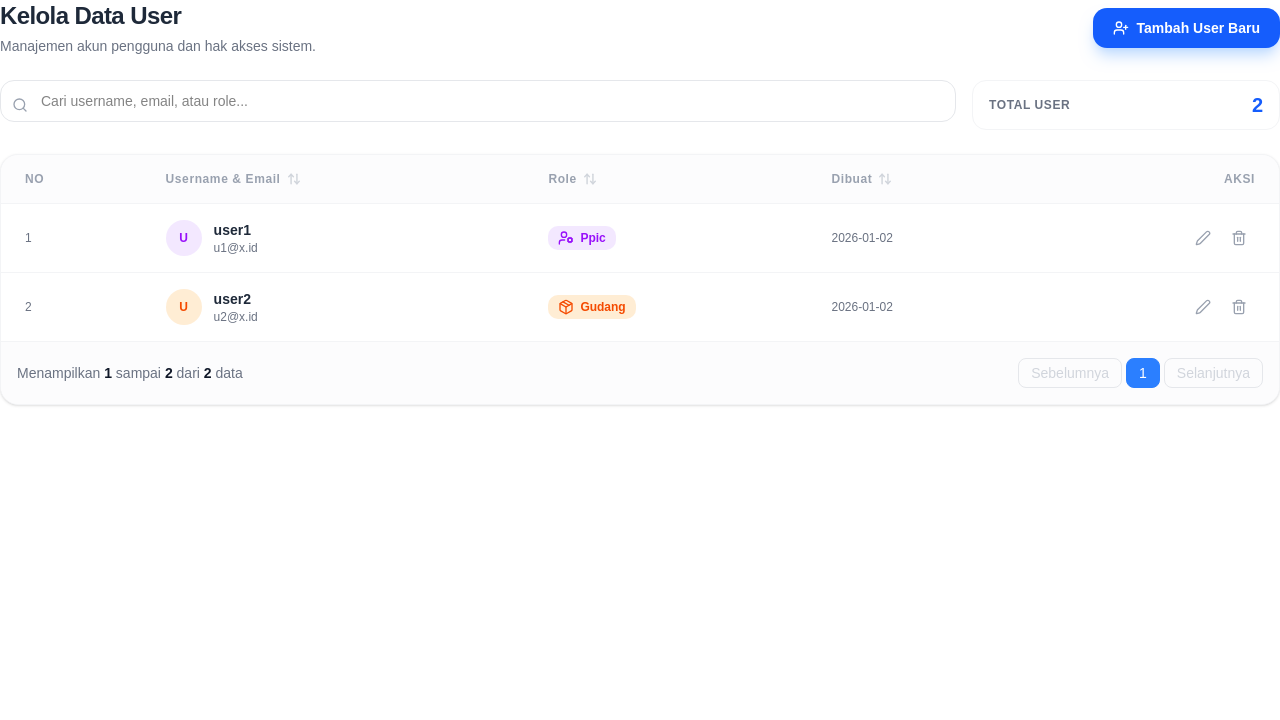
Users form › rejects a short password when editing but allows blank
Expected: the text "user2" is shown, [214,291,251,307]
Click the button titled "Edit user" in the row of "user2". click: (1203, 307)
box: [1187,291,1219,323]
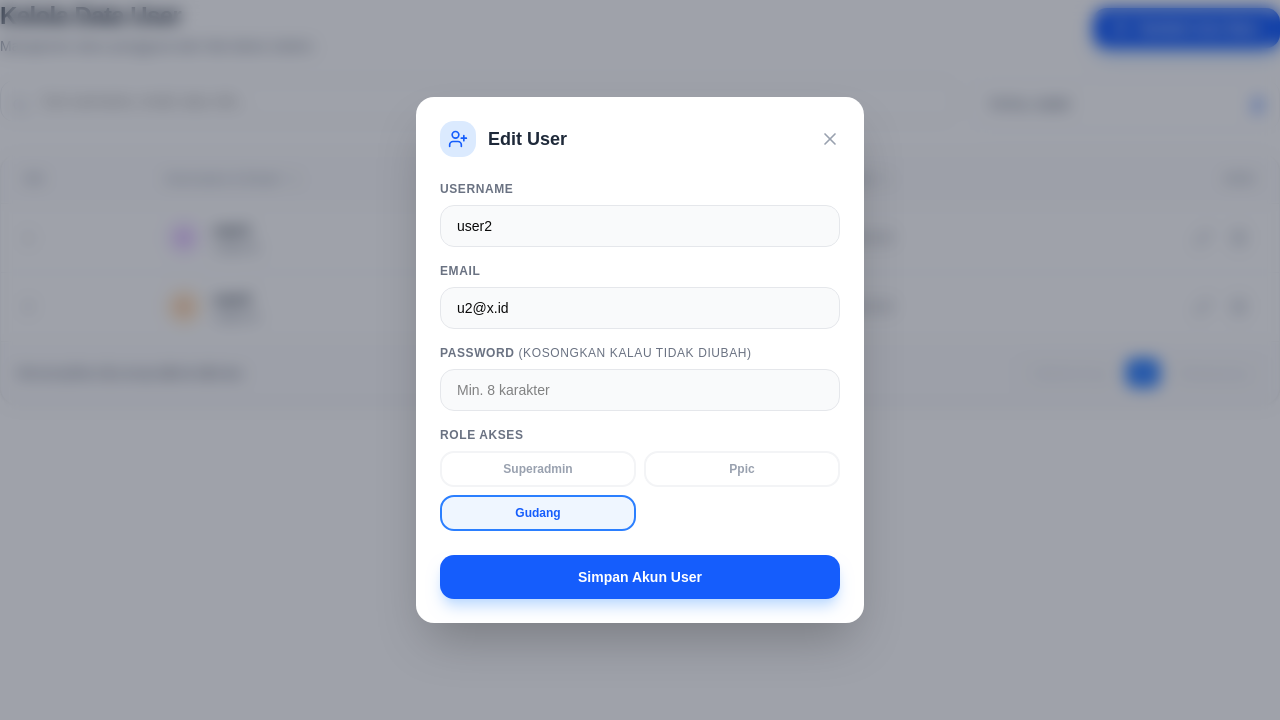
Result: the heading "Edit User" is shown at [488,125,567,153]
Type "pendek" into the password field with placeholder "Min. 8 karakter". click: (640, 390)
box: [440,369,840,411]
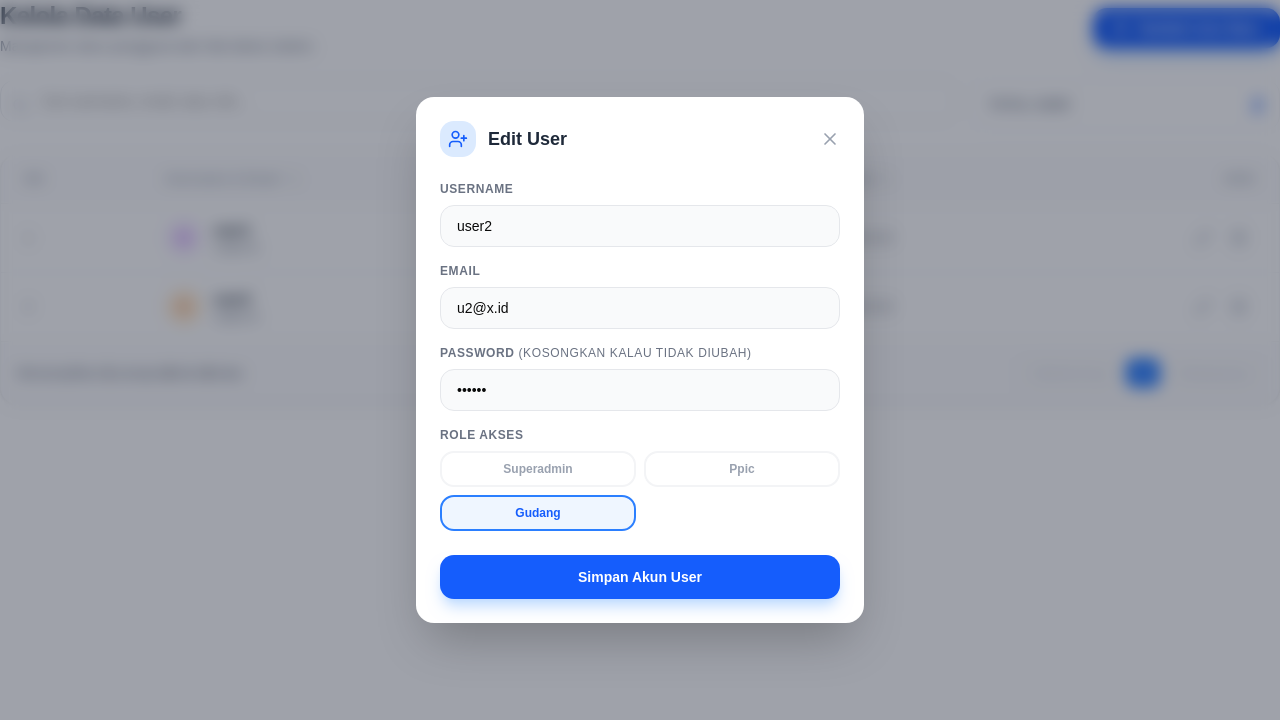
Submit the text "Simpan Akun User", box [440,181,840,599]
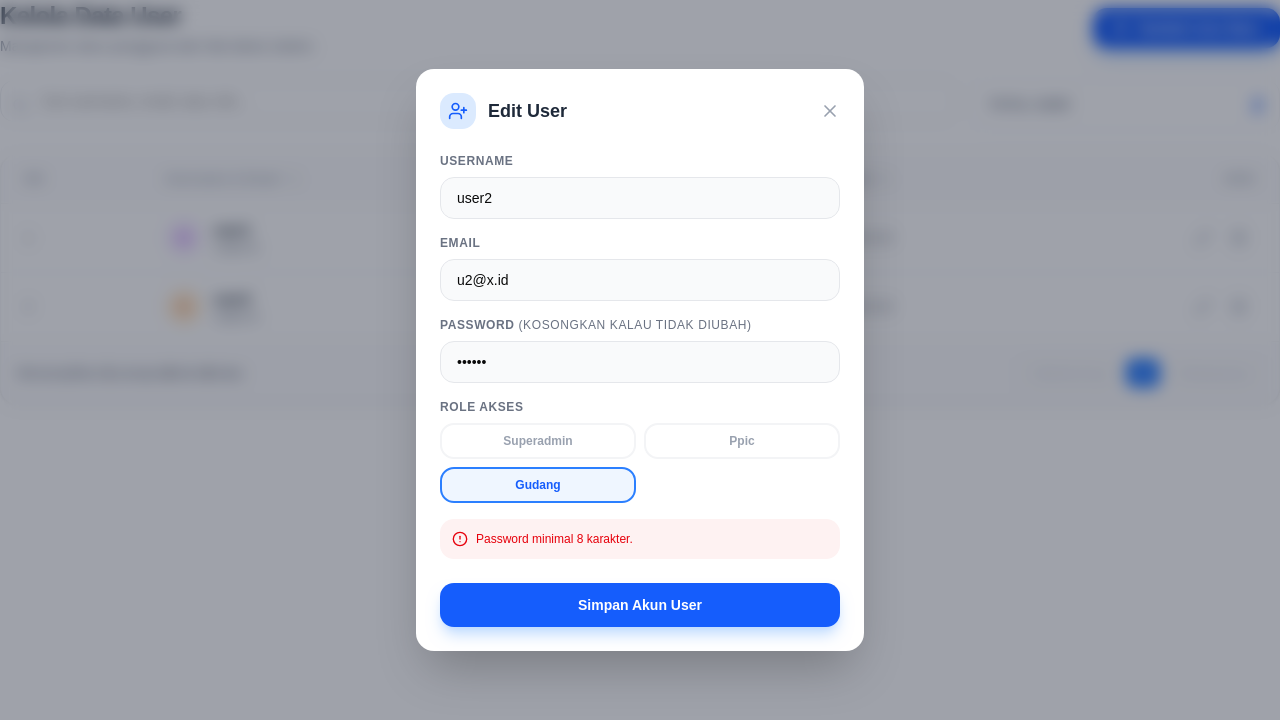
Result: the text "Password minimal 8 karakter." is shown at [440,519,840,559]
